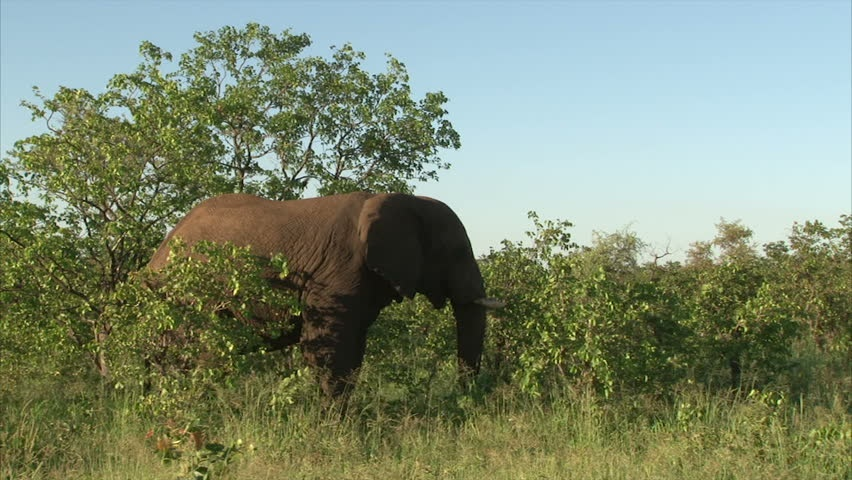elephant: (140, 190, 505, 437)
